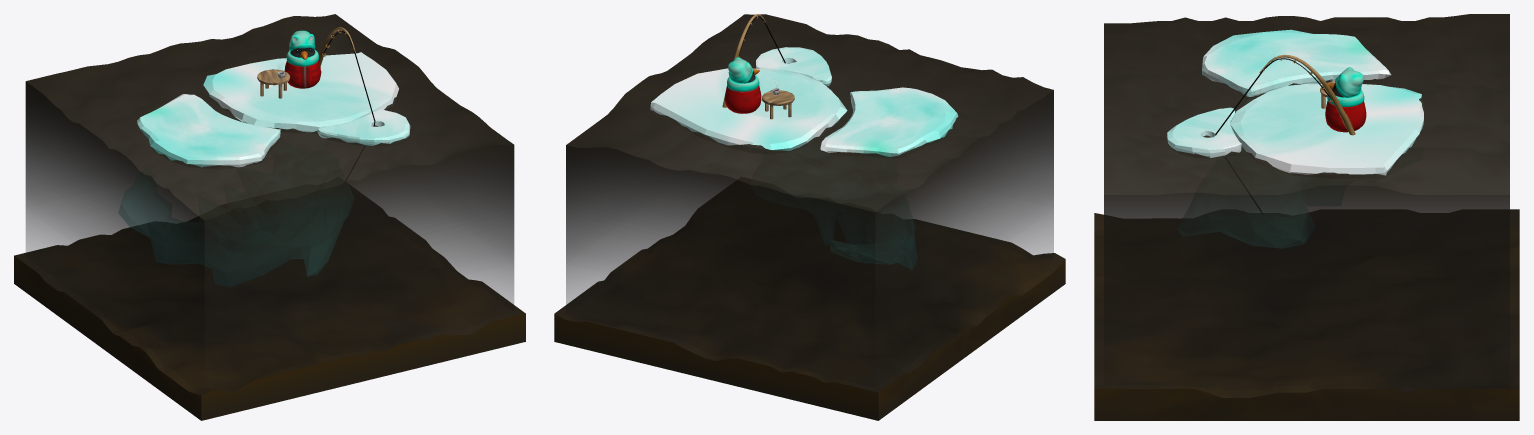
Rendered from ice_fishing__3december.glb.
The picture shows the model from 3 angles, left to right: view 1: azimuth 30°, elevation 25°; view 2: azimuth 150°, elevation 25°; view 3: azimuth 270°, elevation 25°; orthographic projection. The views are drawn at different scales.
Parts seen in each view (by area): view 1: Object_4, Object_6, Object_8, Object_2, Object_7; view 2: Object_4, Object_6, Object_8, Object_7, Object_2; view 3: Object_4, Object_6, Object_8, Object_7, Object_2.
Part boxes in pixels (x1=…): Object_4: x1=25, y1=14, x2=514, y2=380; Object_6: x1=14, y1=192, x2=525, y2=420; Object_8: x1=137, y1=52, x2=410, y2=167; Object_2: x1=119, y1=201, x2=340, y2=286; Object_7: x1=257, y1=27, x2=355, y2=98; Object_4: x1=566, y1=14, x2=1053, y2=380; Object_6: x1=554, y1=190, x2=1065, y2=420; Object_8: x1=650, y1=47, x2=958, y2=156; Object_7: x1=722, y1=14, x2=794, y2=119; Object_2: x1=830, y1=218, x2=916, y2=269; Object_4: x1=1104, y1=14, x2=1509, y2=376; Object_6: x1=1094, y1=209, x2=1519, y2=420; Object_8: x1=1167, y1=29, x2=1423, y2=175; Object_7: x1=1259, y1=54, x2=1366, y2=135; Object_2: x1=1238, y1=222, x2=1306, y2=247.
Size of what is drawn, in the model's own units: 25.21 by 20.43 by 25.21.
7 materials, 5 textured.
